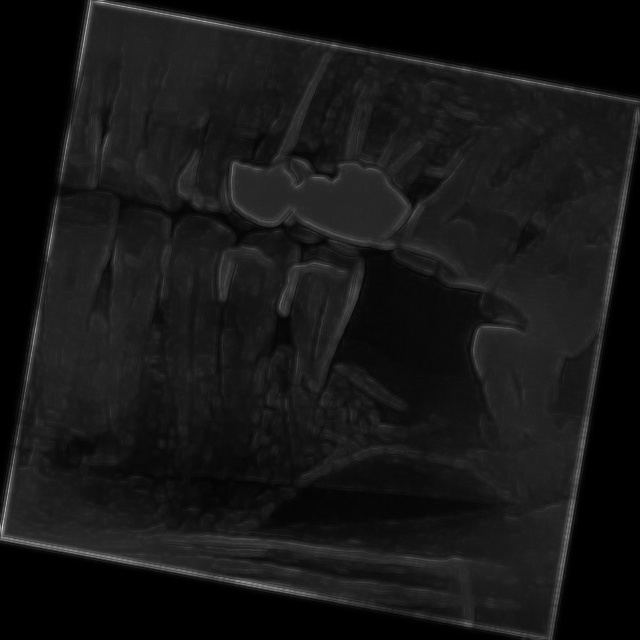Class 0- No endodontic treatment: (232, 32, 349, 242)
Class 1- complete endodontic treatment: (294, 65, 471, 274)
